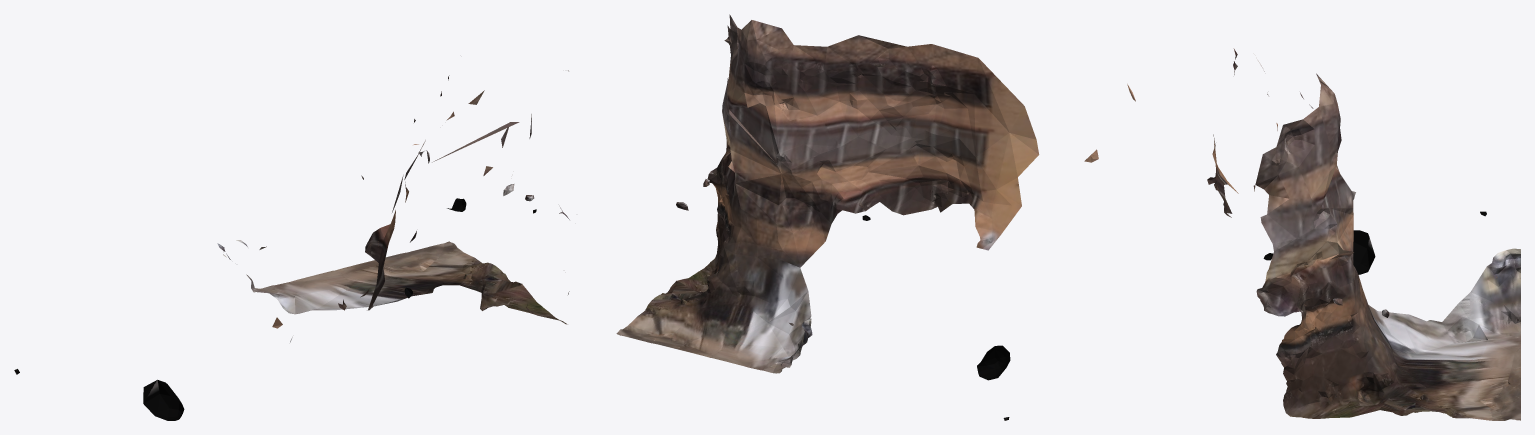
3 views of the same model, side by side, from view 1: azimuth 30°, elevation 25°; view 2: azimuth 150°, elevation 25°; view 3: azimuth 270°, elevation 25° (orthographic). The views are drawn at different scales.
Size of the model in its own units: 20.45 by 14.84 by 15.93.
Materials: 2 (2 with a texture image).
